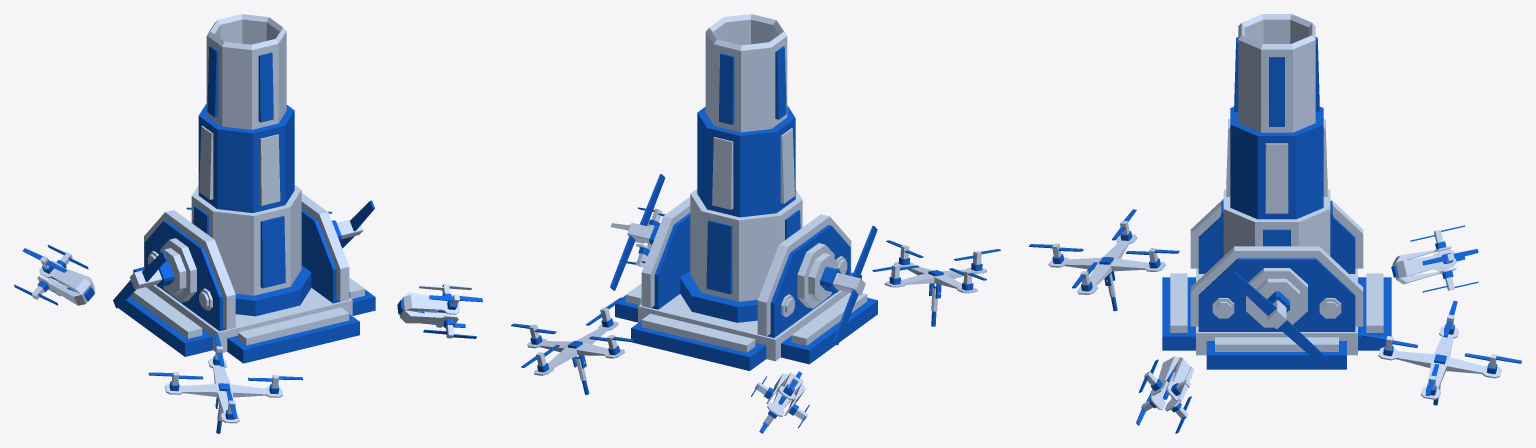
Rendered from Mortar_AA_2A.fbx.
3 views of the same model, side by side, from view 1: azimuth 30°, elevation 25°; view 2: azimuth 150°, elevation 25°; view 3: azimuth 270°, elevation 25° (orthographic). The views are drawn at different scales.
Parts seen in each view (by area): view 1: AntiAirMortarBaseA, AntiAirMortarCannonA; view 2: AntiAirMortarBaseA, AntiAirMortarCannonA; view 3: AntiAirMortarBaseA, AntiAirMortarCannonA.
Boxes of the visible parts, x1,y1,x2,y2 form: AntiAirMortarBaseA: [14, 193, 482, 433]; AntiAirMortarCannonA: [191, 14, 301, 295]; AntiAirMortarBaseA: [511, 174, 1000, 433]; AntiAirMortarCannonA: [690, 14, 802, 301]; AntiAirMortarBaseA: [1029, 199, 1521, 433]; AntiAirMortarCannonA: [1219, 14, 1333, 259].
Size of the model in its own units: 51.33 by 45.65 by 60.8.
Materials: 1 (1 with a texture image).
